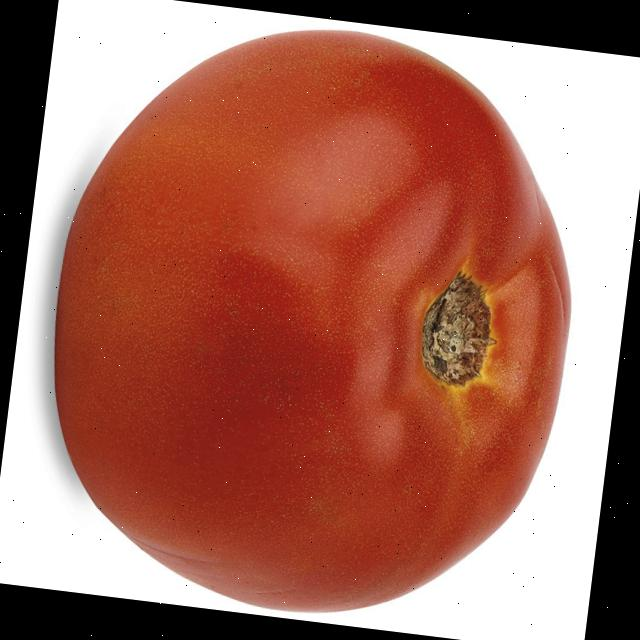tomato: (2, 0, 617, 640)
